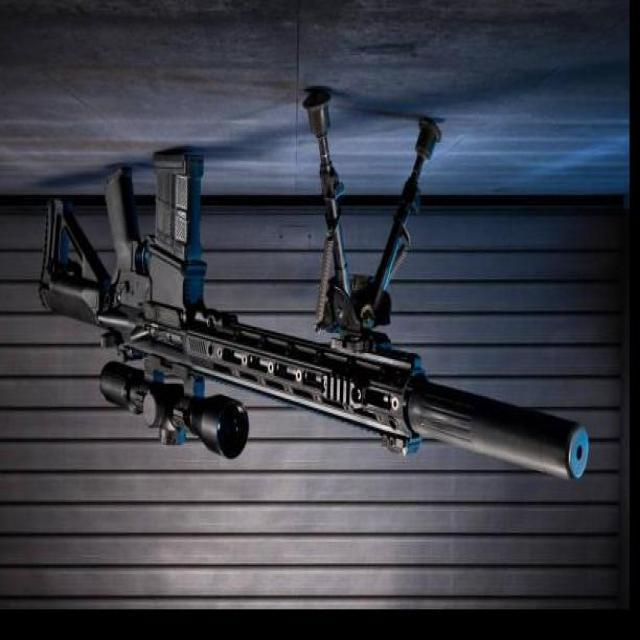weapon: (38, 87, 590, 484)
